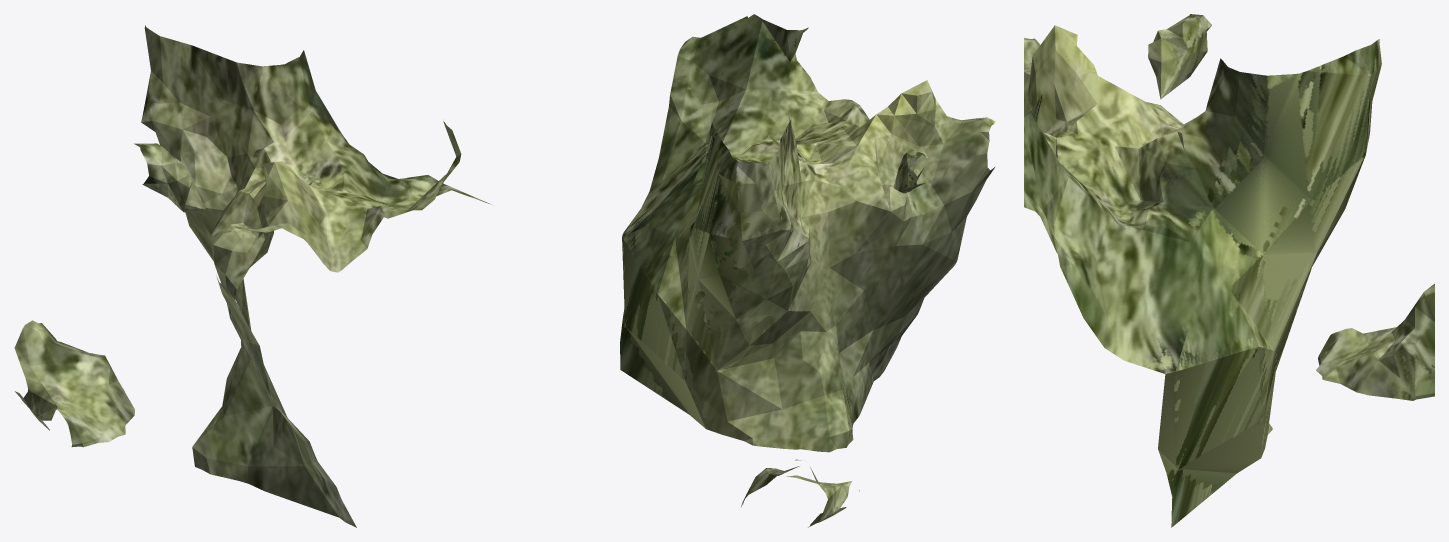
3 renders of one model, left to right at view 1: azimuth 30°, elevation 25°; view 2: azimuth 150°, elevation 25°; view 3: azimuth 270°, elevation 25°, orthographic. The views are drawn at different scales.
Bounding box in the file's own units: 2.95 × 2.95 × 2.95.
5 materials, 5 textured.
